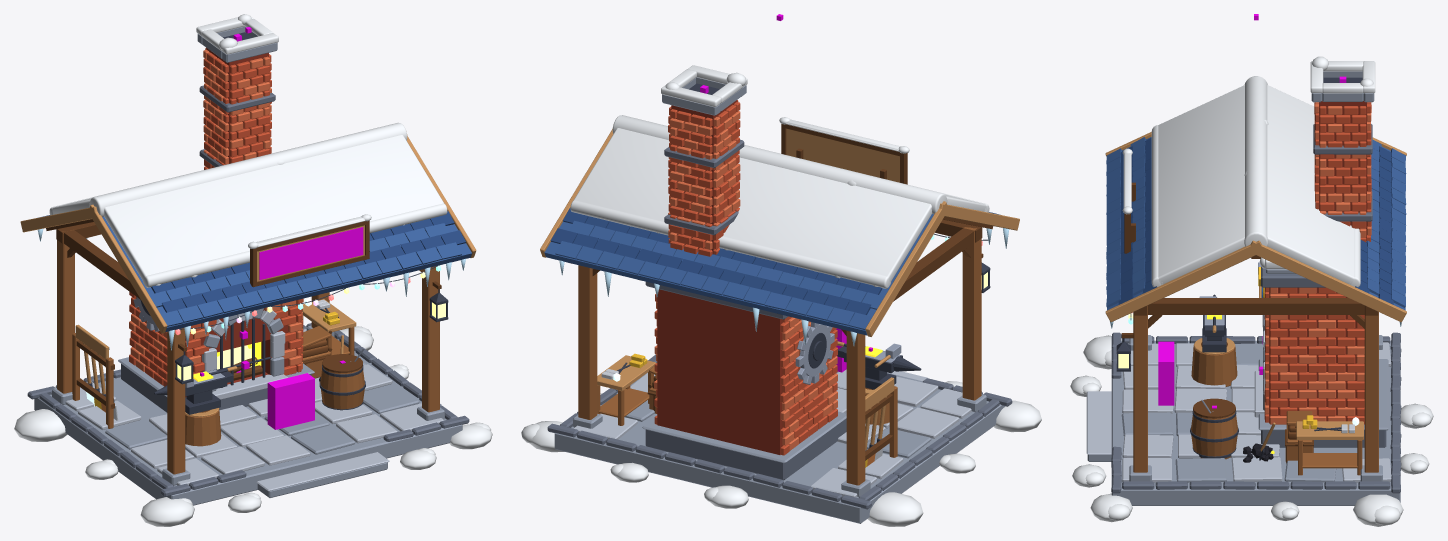
The model's file is ShovelForge.fbx.
3 renders of one model, left to right at view 1: azimuth 30°, elevation 25°; view 2: azimuth 150°, elevation 25°; view 3: azimuth 270°, elevation 25°, orthographic. The views are drawn at different scales.
Parts seen in each view (by area): view 1: ShovelForge__Snow__F6FAFFSP, ShovelForge__StoneMid__96A0B2SP, ShovelForge__StoneLight__BEC6D6SP, ShovelForge__Wood__9E663CSP, ShovelForge__Roof__4266A0SP, ShovelForge__Brick__CE5A3CSP, ShovelForge__StoneDark__6C7486SP, ShovelForge__WoodDark__6C4428SP, ShovelForge__WoodLight__CC945ESP, ShovelForge__RoofDark__325084SP, ShovelForge__BrickLight__E4744ESP, ShovelForge__MetalDark__3E4454SP (+5 smaller); view 2: ShovelForge__Snow__F6FAFFSP, ShovelForge__BrickDark__963C2CSP, ShovelForge__StoneMid__96A0B2SP, ShovelForge__Wood__9E663CSP, ShovelForge__Roof__4266A0SP, ShovelForge__StoneDark__6C7486SP, ShovelForge__Brick__CE5A3CSP, ShovelForge__WoodLight__CC945ESP, ShovelForge__RoofDark__325084SP, ShovelForge__StoneLight__BEC6D6SP, ShovelForge__BrickLight__E4744ESP, ShovelForge__WoodDark__6C4428SP (+3 smaller); view 3: ShovelForge__Snow__F6FAFFSP, ShovelForge__StoneMid__96A0B2SP, ShovelForge__Brick__CE5A3CSP, ShovelForge__StoneLight__BEC6D6SP, ShovelForge__Wood__9E663CSP, ShovelForge__Roof__4266A0SP, ShovelForge__StoneDark__6C7486SP, ShovelForge__WoodLight__CC945ESP, ShovelForge__BrickLight__E4744ESP, ShovelForge__WoodDark__6C4428SP, ShovelForge__RoofDark__325084SP, ShovelForge__BrickDark__963C2CSP (+2 smaller).
Boxes of the visible parts, box(x1,y1,x2,y2) form: ShovelForge__Snow__F6FAFFSP: box(14, 14, 492, 526); ShovelForge__StoneMid__96A0B2SP: box(34, 26, 462, 505); ShovelForge__StoneLight__BEC6D6SP: box(51, 310, 444, 491); ShovelForge__Wood__9E663CSP: box(57, 230, 439, 474); ShovelForge__Roof__4266A0SP: box(37, 215, 471, 331); ShovelForge__Brick__CE5A3CSP: box(129, 48, 303, 397); ShovelForge__StoneDark__6C7486SP: box(27, 85, 469, 496); ShovelForge__WoodDark__6C4428SP: box(46, 219, 441, 412); ShovelForge__WoodLight__CC945ESP: box(20, 134, 476, 416); ShovelForge__RoofDark__325084SP: box(47, 211, 465, 312); ShovelForge__BrickLight__E4744ESP: box(129, 49, 302, 371); ShovelForge__MetalDark__3E4454SP: box(87, 32, 448, 414); ShovelForge__Snow__F6FAFFSP: box(521, 65, 1041, 526); ShovelForge__BrickDark__963C2CSP: box(657, 100, 783, 454); ShovelForge__StoneMid__96A0B2SP: box(554, 77, 1004, 523); ShovelForge__Wood__9E663CSP: box(578, 227, 981, 485); ShovelForge__Roof__4266A0SP: box(544, 212, 1000, 335); ShovelForge__StoneDark__6C7486SP: box(547, 139, 1012, 509); ShovelForge__Brick__CE5A3CSP: box(654, 100, 837, 455); ShovelForge__WoodLight__CC945ESP: box(540, 128, 1019, 450); ShovelForge__RoofDark__325084SP: box(550, 208, 993, 314); ShovelForge__StoneLight__BEC6D6SP: box(574, 369, 971, 497); ShovelForge__BrickLight__E4744ESP: box(654, 111, 837, 450); ShovelForge__WoodDark__6C4428SP: box(571, 124, 993, 460); ShovelForge__Snow__F6FAFFSP: box(1070, 56, 1433, 526); ShovelForge__StoneMid__96A0B2SP: box(1087, 71, 1400, 505); ShovelForge__Brick__CE5A3CSP: box(1264, 102, 1371, 424); ShovelForge__StoneLight__BEC6D6SP: box(1086, 315, 1391, 482); ShovelForge__Wood__9E663CSP: box(1133, 305, 1378, 475); ShovelForge__Roof__4266A0SP: box(1106, 137, 1406, 310); ShovelForge__StoneDark__6C7486SP: box(1111, 124, 1401, 493); ShovelForge__WoodLight__CC945ESP: box(1105, 132, 1406, 451); ShovelForge__BrickLight__E4744ESP: box(1264, 102, 1371, 424); ShovelForge__WoodDark__6C4428SP: box(1121, 182, 1378, 461); ShovelForge__RoofDark__325084SP: box(1118, 138, 1393, 304); ShovelForge__BrickDark__963C2CSP: box(1269, 101, 1366, 423).
Size of the model in its own units: 27.4 by 29.38 by 22.62.
